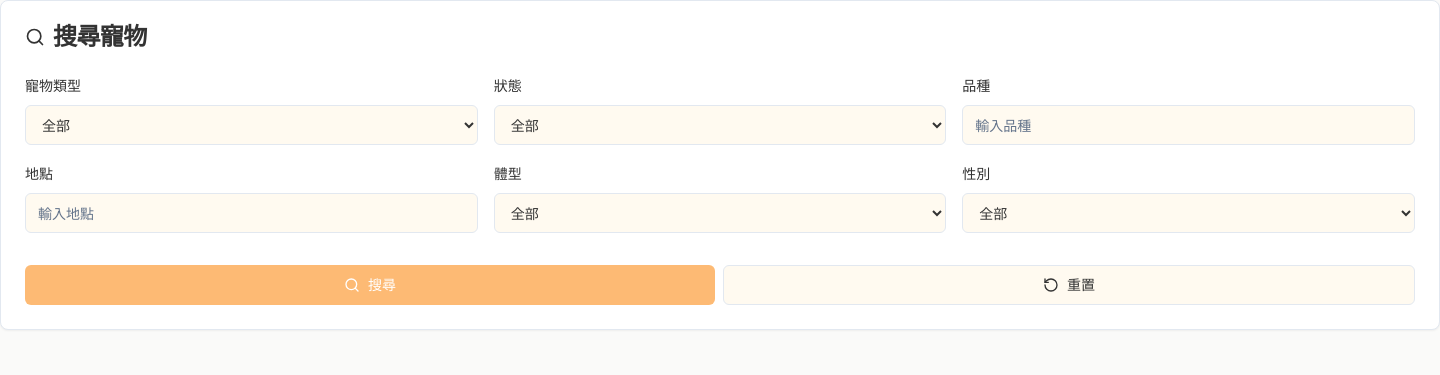
Test: SearchForm › validates required fields
This screenshot has width=1440, height=375.
Step 1. Click the button "搜尋" → [370, 285], box left=25, top=265, right=715, bottom=305
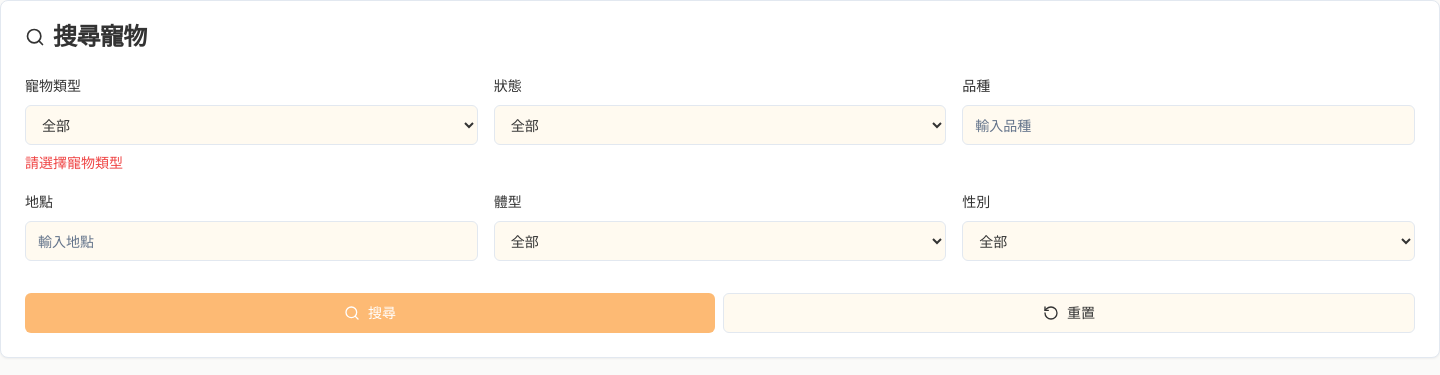
Result: the text "請選擇寵物類型" is shown at left=25, top=154, right=123, bottom=171
